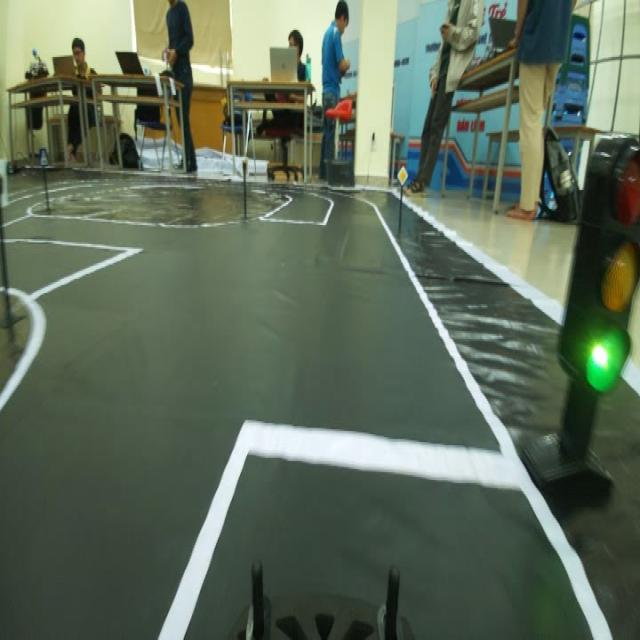trafficlight: (557, 107, 640, 428)
